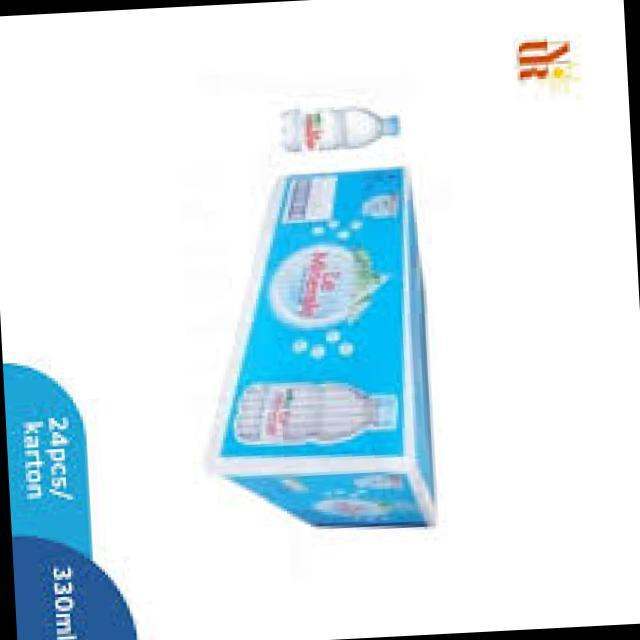good: (269, 96, 399, 166)
